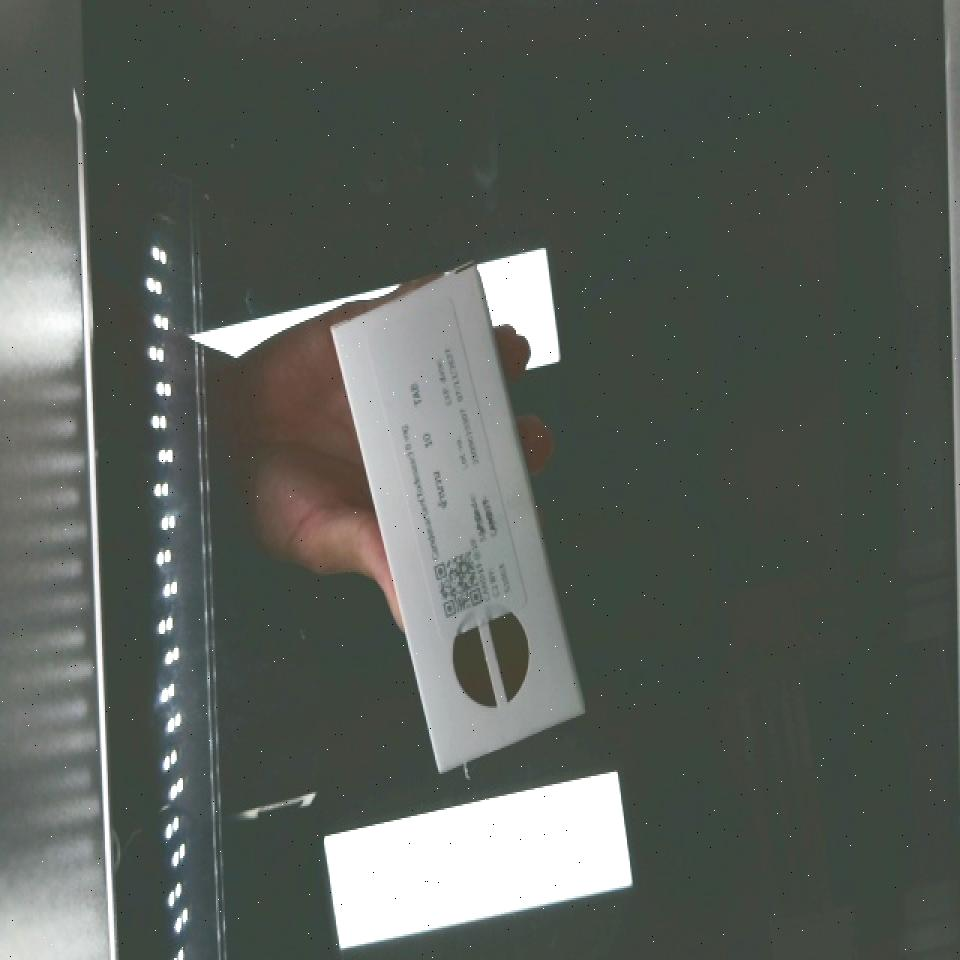medicine_box: (325, 271, 589, 774)
qr_code: (414, 536, 502, 636)
